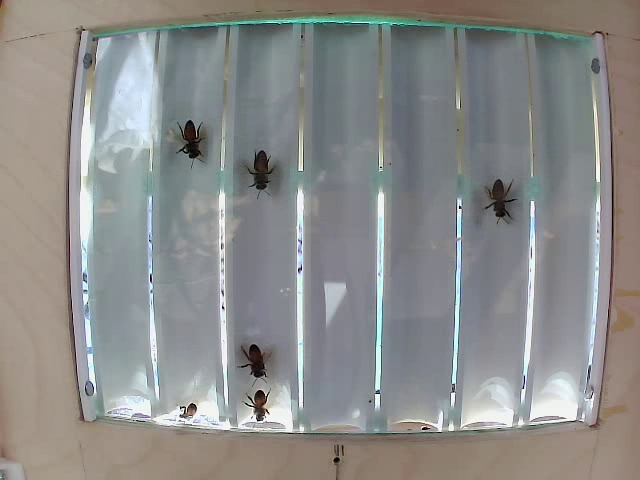bee: (475, 164, 517, 222), (229, 145, 280, 186), (173, 121, 210, 163), (232, 335, 268, 373), (231, 383, 267, 411)
